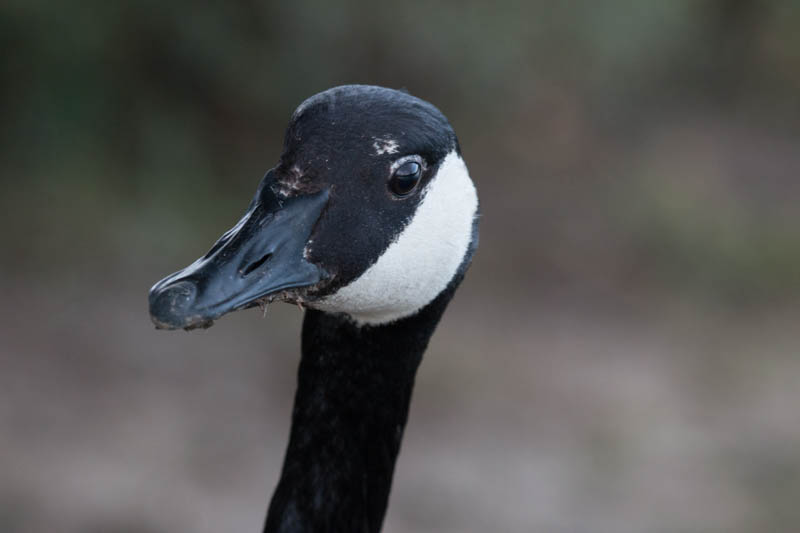goose-head: (147, 83, 480, 335)
